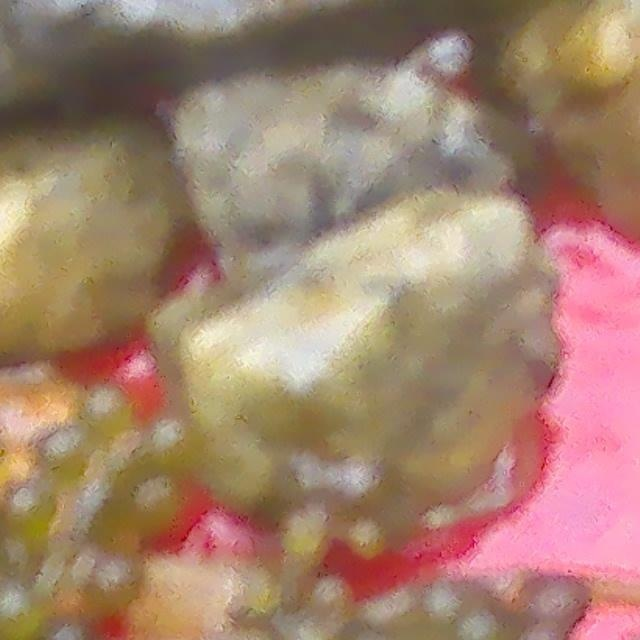SeaGrape: (520, 580, 585, 629)
